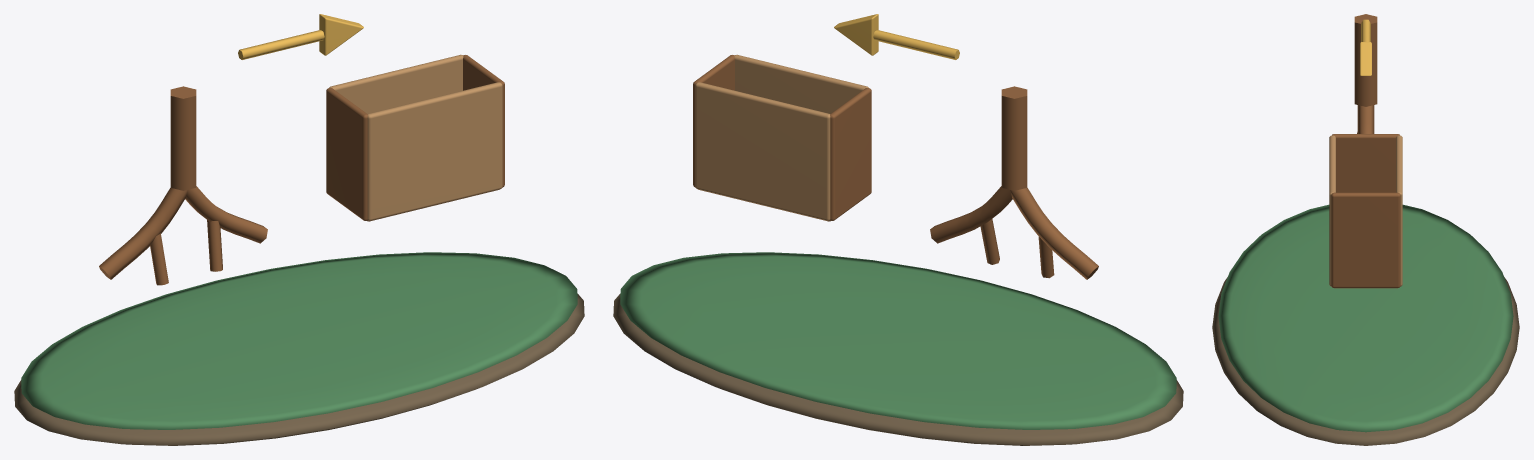
Rendered from complete-first-cause-for-result.glb.
The picture shows the model from 3 angles, left to right: view 1: azimuth 30°, elevation 25°; view 2: azimuth 150°, elevation 25°; view 3: azimuth 270°, elevation 25°; orthographic projection. The views are drawn at different scales.
Visible parts, largest first — view 1: complete-first-cause-for-result_surface_01, complete-first-cause-for-result_surface_03, complete-first-cause-for-result_surface_02, complete-first-cause-for-result_surface_00, complete-first-cause-for-result_surface_04; view 2: complete-first-cause-for-result_surface_01, complete-first-cause-for-result_surface_03, complete-first-cause-for-result_surface_02, complete-first-cause-for-result_surface_00, complete-first-cause-for-result_surface_04; view 3: complete-first-cause-for-result_surface_01, complete-first-cause-for-result_surface_02, complete-first-cause-for-result_surface_00, complete-first-cause-for-result_surface_03, complete-first-cause-for-result_surface_04.
Part boxes in pixels (x1,y1,x2,y2): complete-first-cause-for-result_surface_01: (21, 252, 577, 429); complete-first-cause-for-result_surface_03: (329, 54, 502, 220); complete-first-cause-for-result_surface_02: (99, 55, 504, 285); complete-first-cause-for-result_surface_00: (14, 294, 584, 445); complete-first-cause-for-result_surface_04: (238, 14, 363, 59); complete-first-cause-for-result_surface_01: (620, 252, 1176, 429); complete-first-cause-for-result_surface_03: (695, 54, 868, 220); complete-first-cause-for-result_surface_02: (693, 55, 1098, 279); complete-first-cause-for-result_surface_00: (613, 294, 1183, 445); complete-first-cause-for-result_surface_04: (834, 14, 959, 59); complete-first-cause-for-result_surface_01: (1218, 204, 1513, 432); complete-first-cause-for-result_surface_02: (1331, 14, 1400, 288); complete-first-cause-for-result_surface_00: (1212, 277, 1519, 445); complete-first-cause-for-result_surface_03: (1329, 135, 1402, 286); complete-first-cause-for-result_surface_04: (1360, 19, 1371, 75).
Size of the model in its own units: 4.56 by 2.78 by 2.5.
